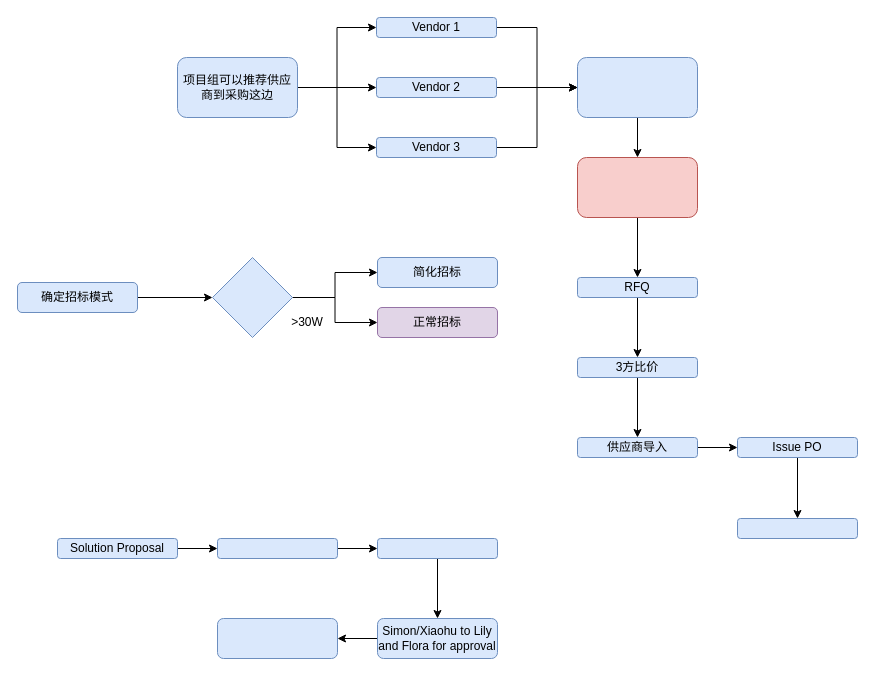
Image size: 875x676. Some labels were removed from this diagram. Here are the shapes that lost their labels. From the top down, the centre of each, then its label:
At [637,87]: "Engineering回答Vendor提出的技术问题 IT和PM支持".
At [637,187]: "文件准备支持RFQ Engineering主导 IT PM PMO支持".
At [252,297]: "根据 金额 项目复杂程度 金额重要还是时间重要".
At [277,548]: "RFQ Material".
At [437,548]: "Get Quote".
At [797,528]: "On Board Vendor".
At [277,638]: "Colin to raise ticket in R12 for approval".
